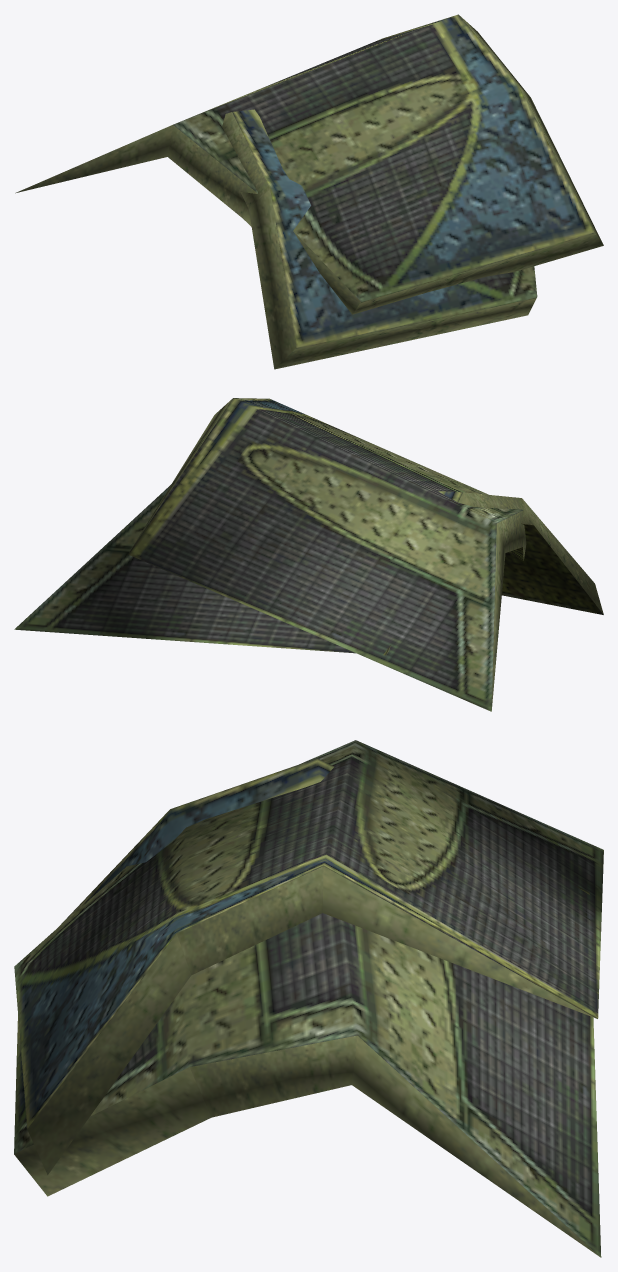
The model's file is ShoulderPads6__MOB.glb.
3 renders of one model, top to bottom at view 1: azimuth 30°, elevation 25°; view 2: azimuth 150°, elevation 25°; view 3: azimuth 270°, elevation 25°, orthographic. The views are drawn at different scales.
Visible parts, largest first — view 1: ShoulderPads6; view 2: ShoulderPads6; view 3: ShoulderPads6.
Part boxes in pixels (left/top/right/bottom): ShoulderPads6: left=15, top=14, right=603, bottom=369; ShoulderPads6: left=14, top=398, right=603, bottom=711; ShoulderPads6: left=14, top=740, right=603, bottom=1257.
Size of the model in its own units: 13.97 by 6.37 by 9.83.
1 material, 1 textured.
